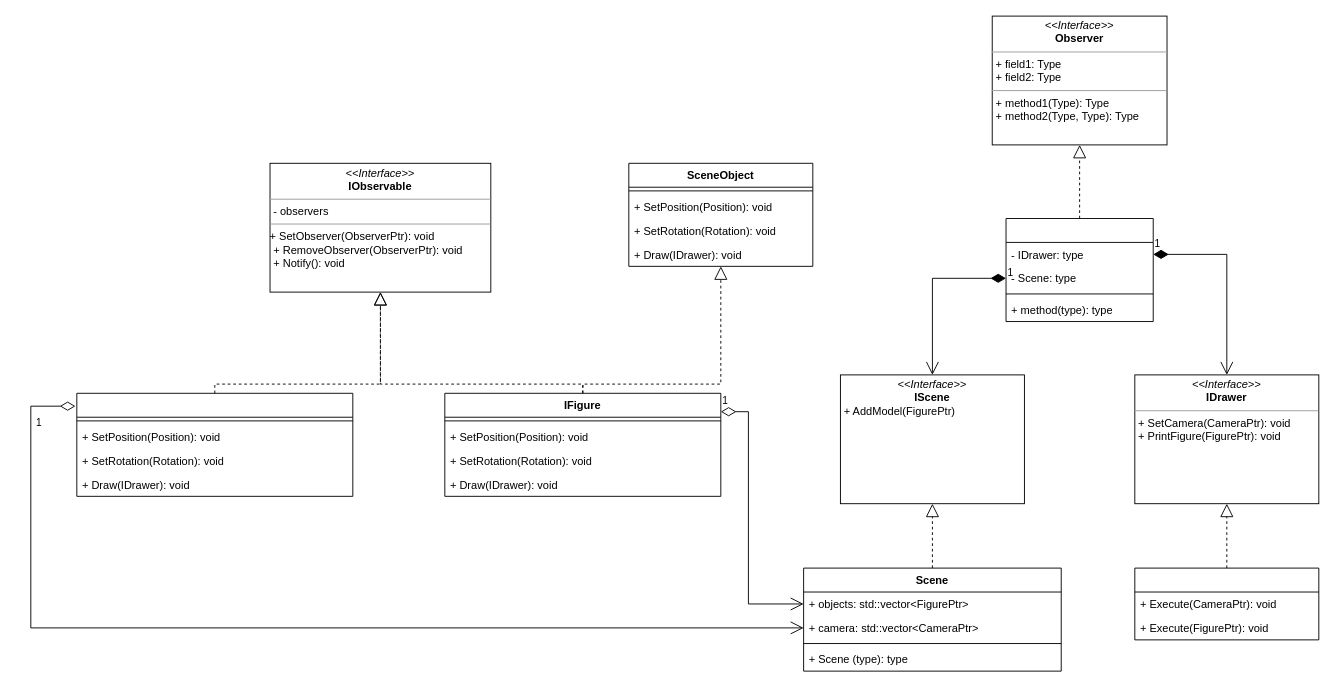
The diagram is 1335 pixels wide and 690 high, and some of its shapes have lost their labels. The shapes that lost their labels are listed below. From the top down, each one's box as (x1, y1, x2, y2) in pixels, then its label:
(1005, 218, 1153, 322): WindowRendering
(76, 392, 353, 496): Camera
(1134, 567, 1319, 640): DrawerOpenGl
